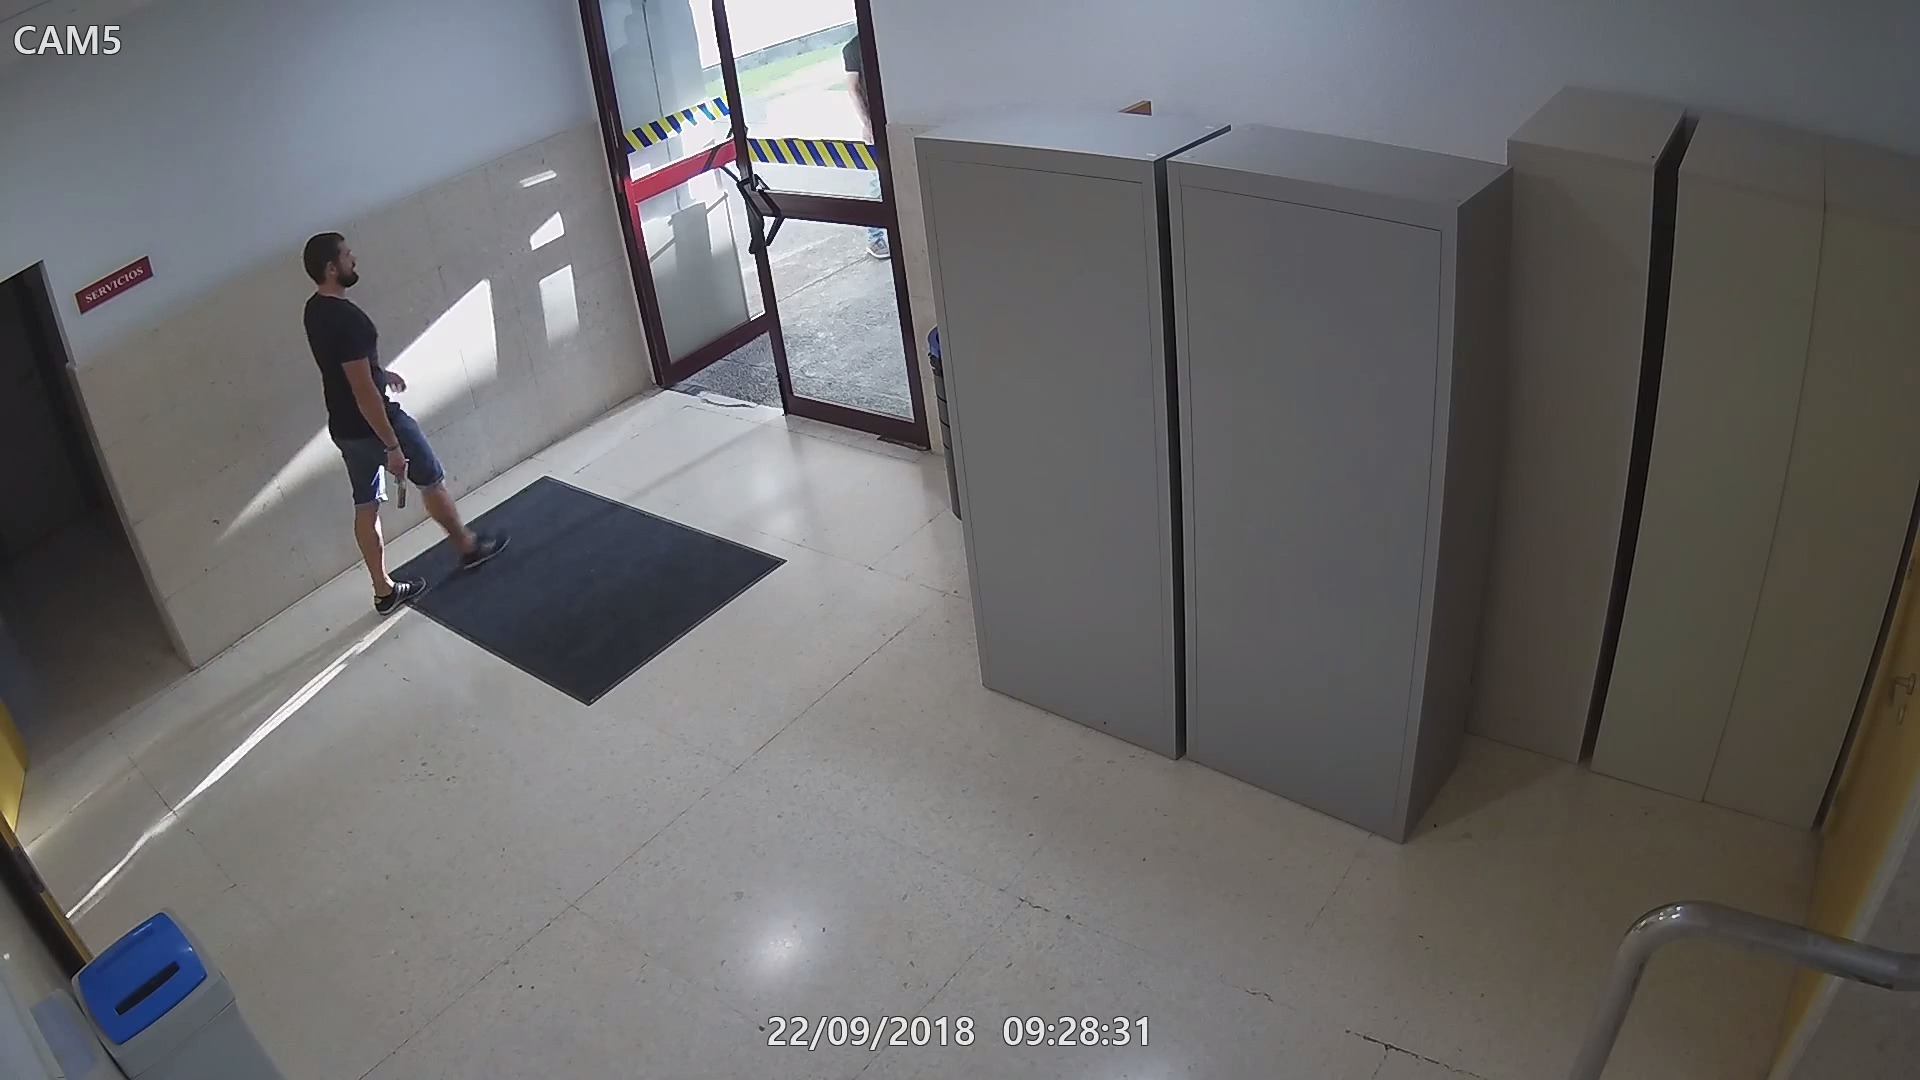Handgun: (384, 444, 411, 520)
